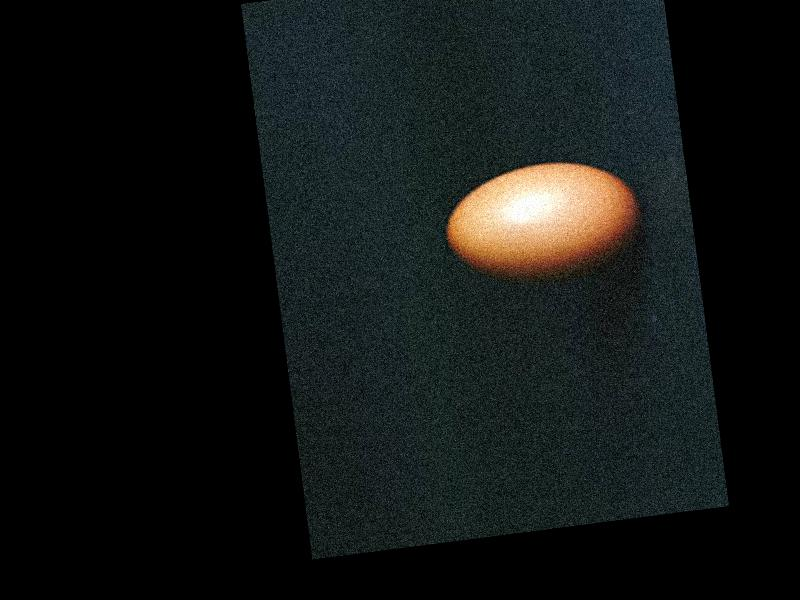Eggs: (440, 154, 648, 290)
